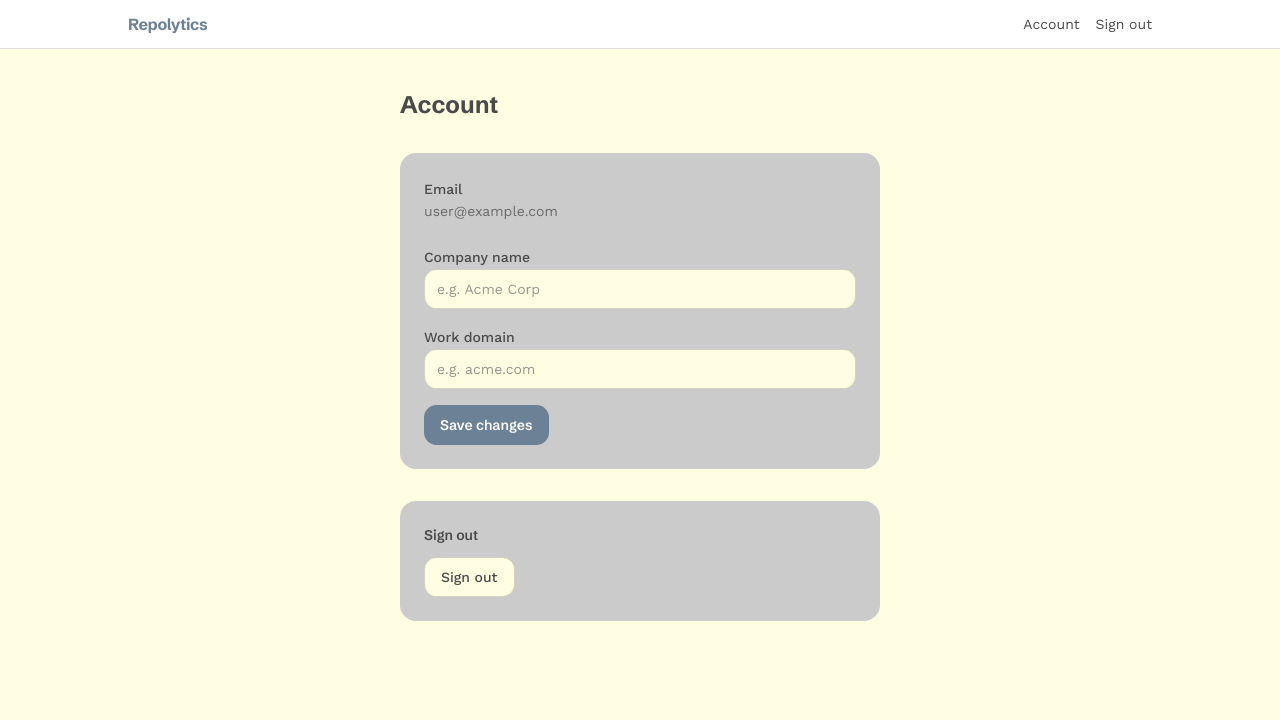
it: AccountPage › shows 'Saved' confirmation after successful save
Expected: the field with placeholder "e.g. Acme Corp" is shown, [424,269,856,309]
What coordinates should you click on to do the following:
click the button "Save changes"
I would click on:
 (486, 425)
Its box is [424,405,548,445].
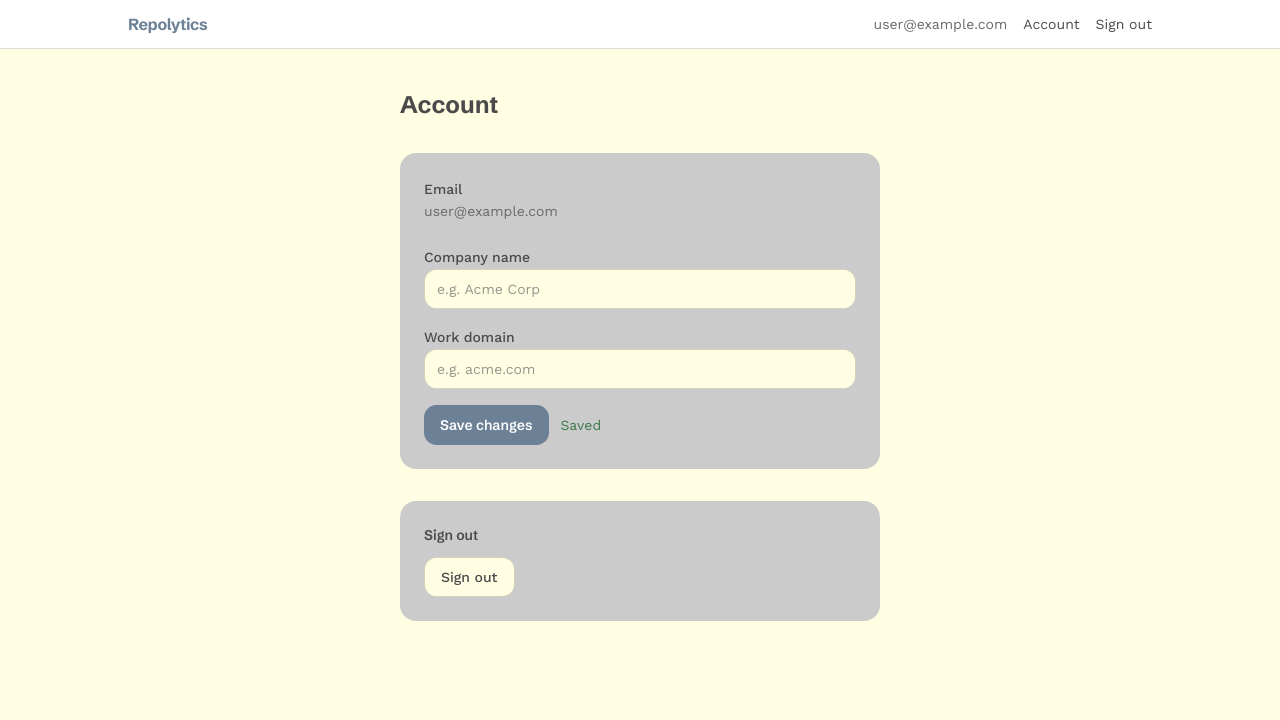
Expected: the text "Saved" is shown, [560,415,601,435]
